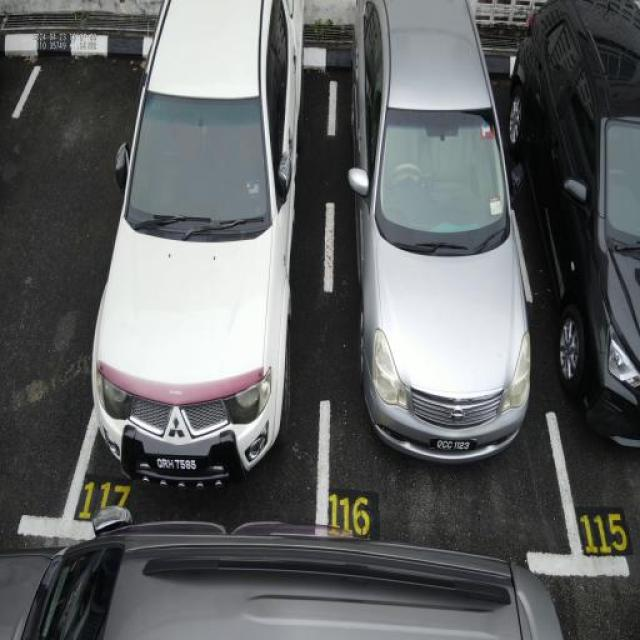Legalparking: (0, 0, 640, 480)
illegalparking: (0, 493, 592, 640)
